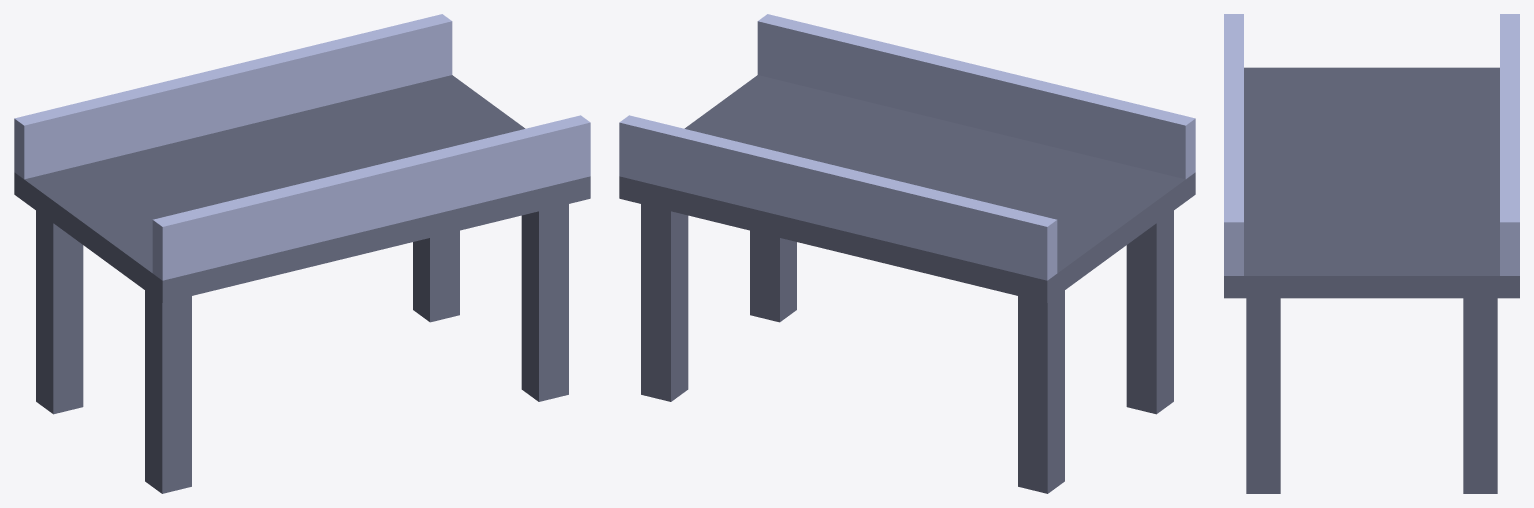
File: footbridge-deck.glb
3 views of the same model, side by side, from view 1: azimuth 30°, elevation 25°; view 2: azimuth 150°, elevation 25°; view 3: azimuth 270°, elevation 25° (orthographic).
Parts seen in each view (by area): view 1: footbridge-deck; view 2: footbridge-deck; view 3: footbridge-deck.
Boxes of the visible parts, x1,y1,x2,y2 form: footbridge-deck: (14, 14, 590, 493); footbridge-deck: (619, 14, 1195, 493); footbridge-deck: (1224, 14, 1519, 493).
Bounding box in the file's own units: 1 × 0.62 × 0.6.
1 material, 1 textured.
